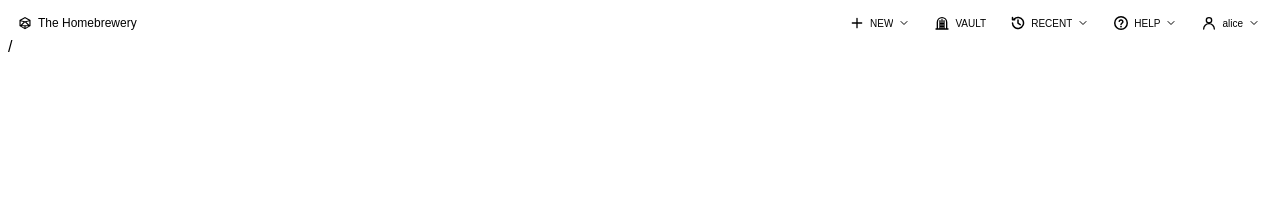
Navbar › following a link navigates and closes the panel
This screenshot has width=1280, height=211.
Click the button with aria-label "Account: alice".
click(1231, 23)  # box [1189,8,1272,38]
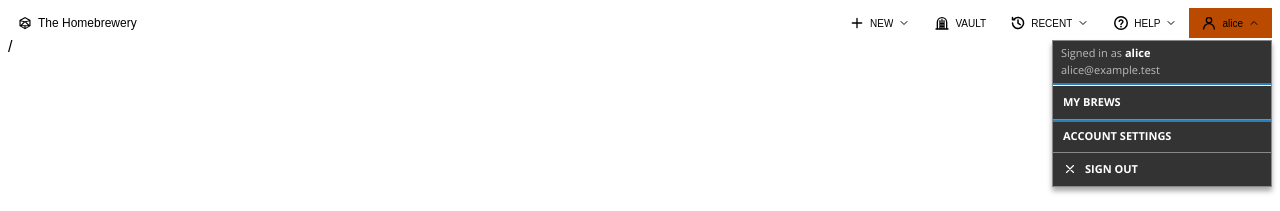
Click the link "Account settings".
click(1162, 135)  # box [1053,118,1271,152]
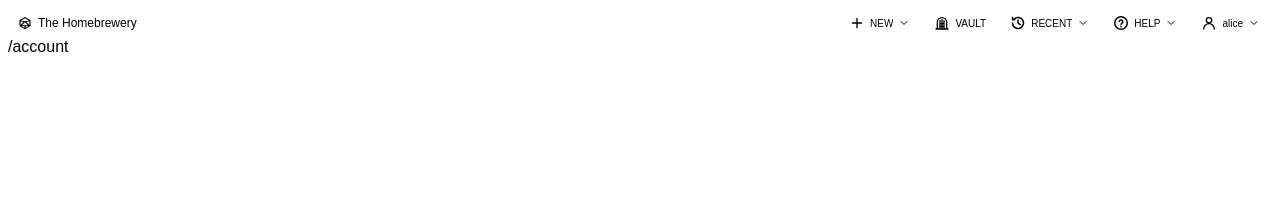
expect the text with test id "location" reads "/account": met, box [8,38,68,55]
